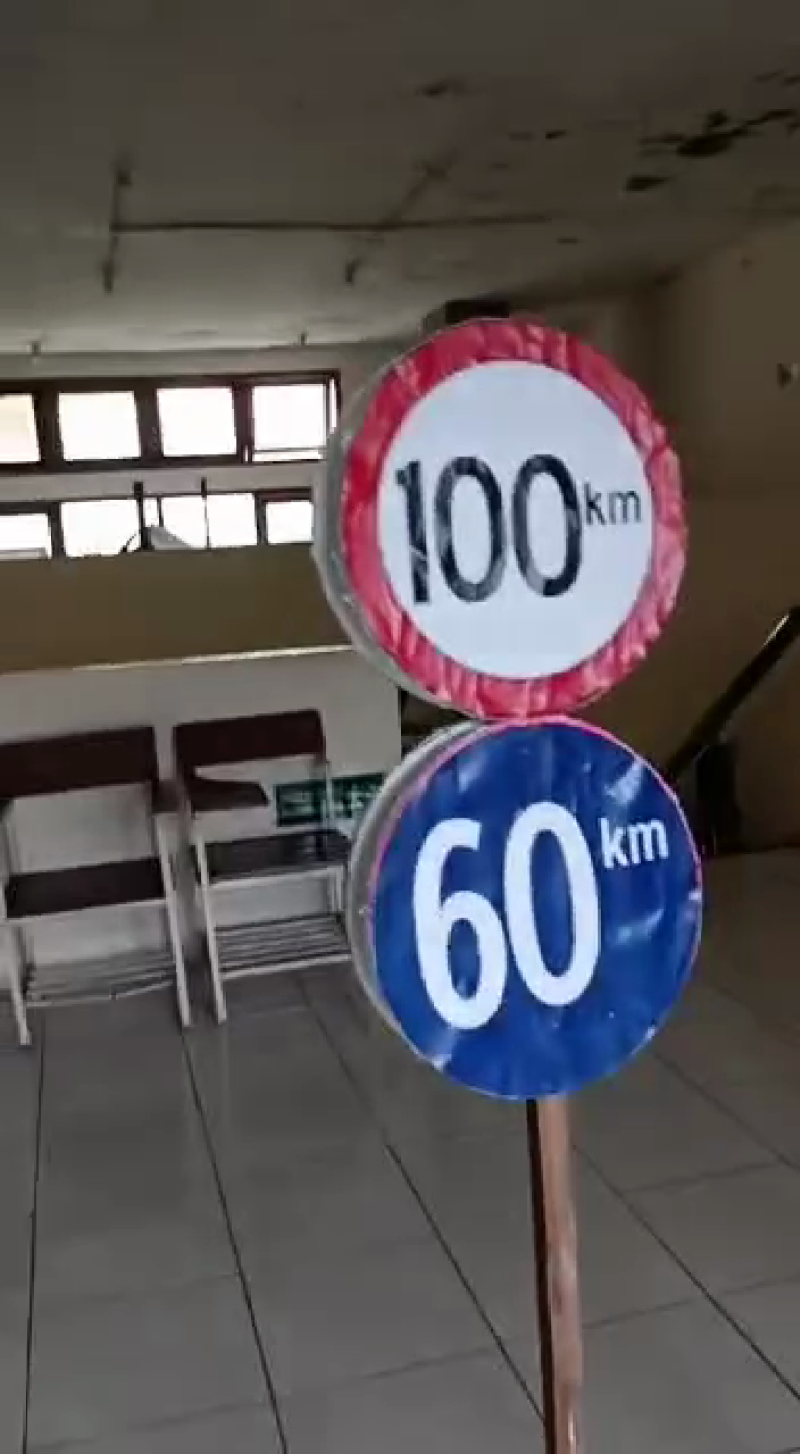batas maksimal 100kmperjam minimal 60kmperjam: (318, 305, 721, 1112)
